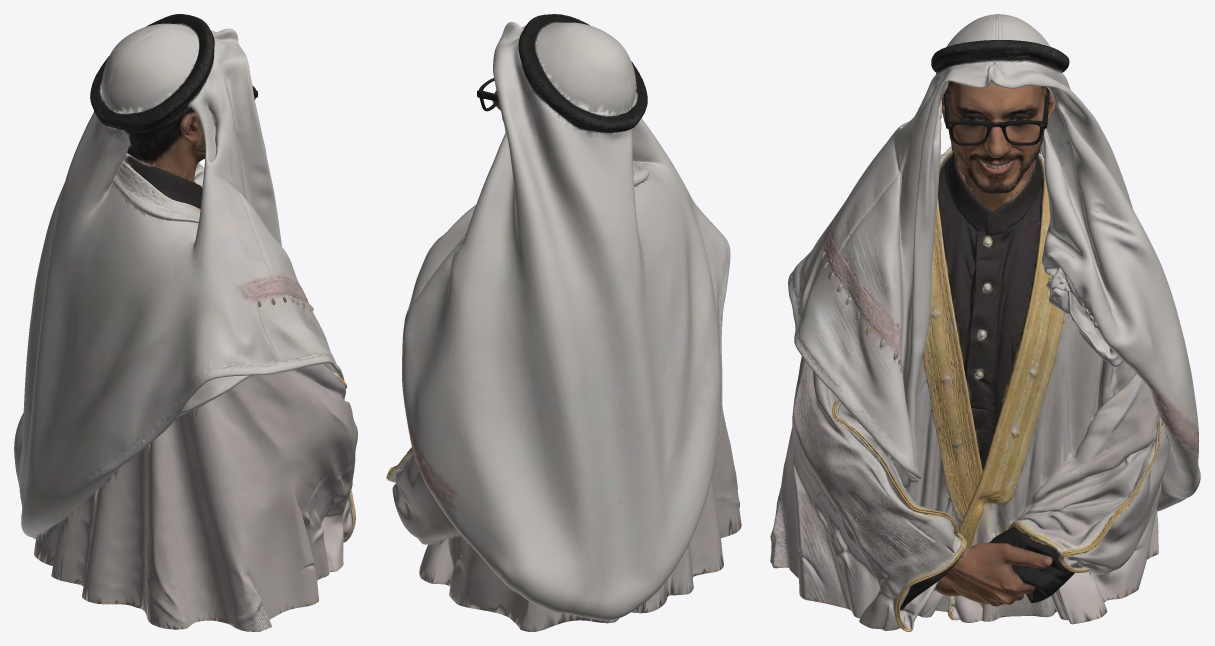
The model's file is mir-avatar.glb.
The picture shows the model from 3 angles, left to right: view 1: azimuth 30°, elevation 25°; view 2: azimuth 150°, elevation 25°; view 3: azimuth 270°, elevation 25°; orthographic projection. The views are drawn at different scales.
Parts seen in each view (by area): view 1: tripo_node_1d587024-c518-4879-9598-c363802a68e8; view 2: tripo_node_1d587024-c518-4879-9598-c363802a68e8; view 3: tripo_node_1d587024-c518-4879-9598-c363802a68e8.
Boxes of the visible parts, bbox=[...] form: tripo_node_1d587024-c518-4879-9598-c363802a68e8: bbox=[14, 14, 357, 631]; tripo_node_1d587024-c518-4879-9598-c363802a68e8: bbox=[386, 14, 741, 631]; tripo_node_1d587024-c518-4879-9598-c363802a68e8: bbox=[770, 14, 1200, 631].
Size of the model in its own units: 0.5203 by 0.9786 by 0.6984.
1 material, 1 textured.
